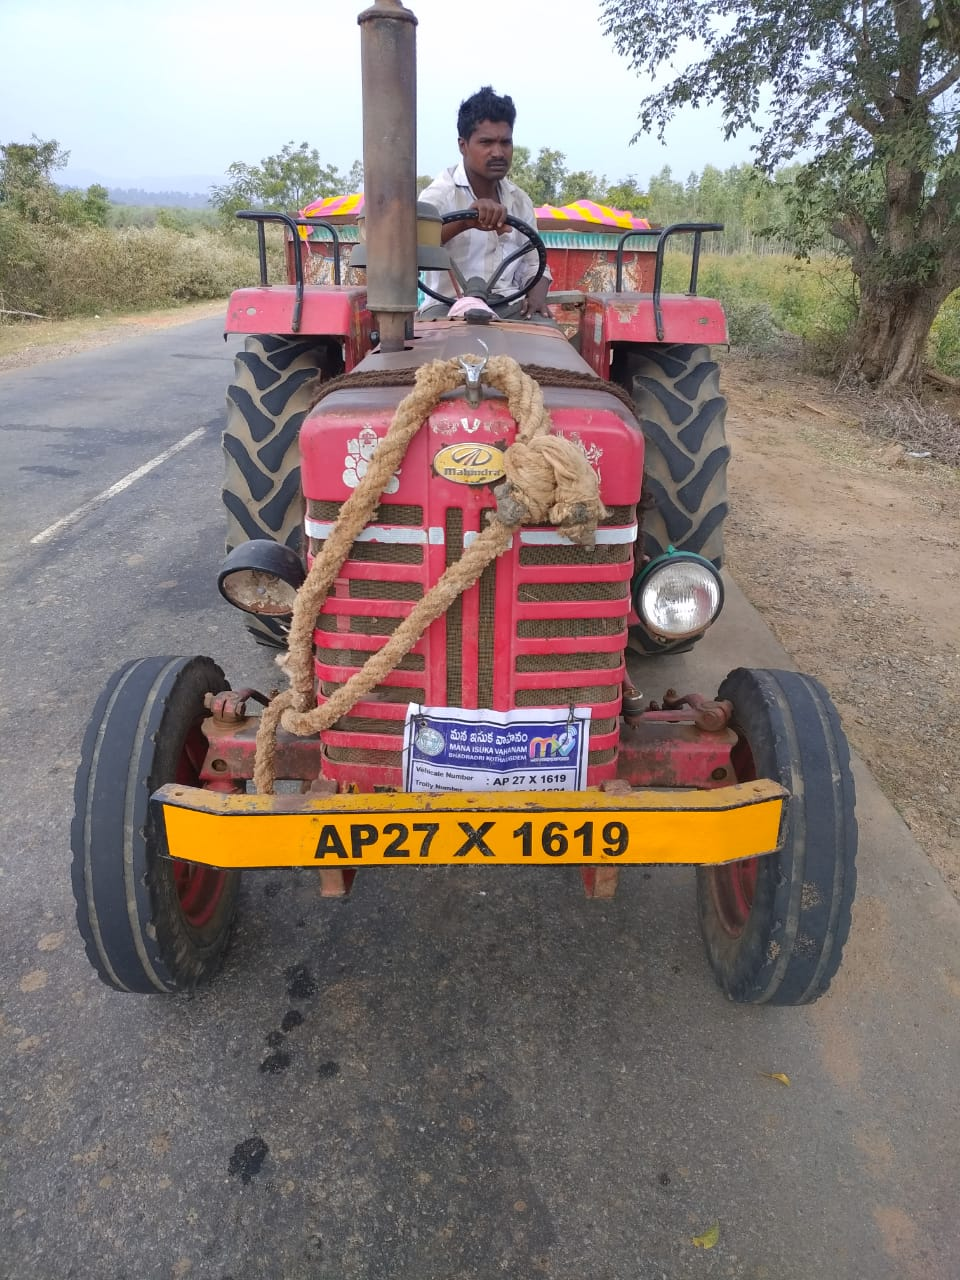license_plate: (306, 810, 641, 870)
